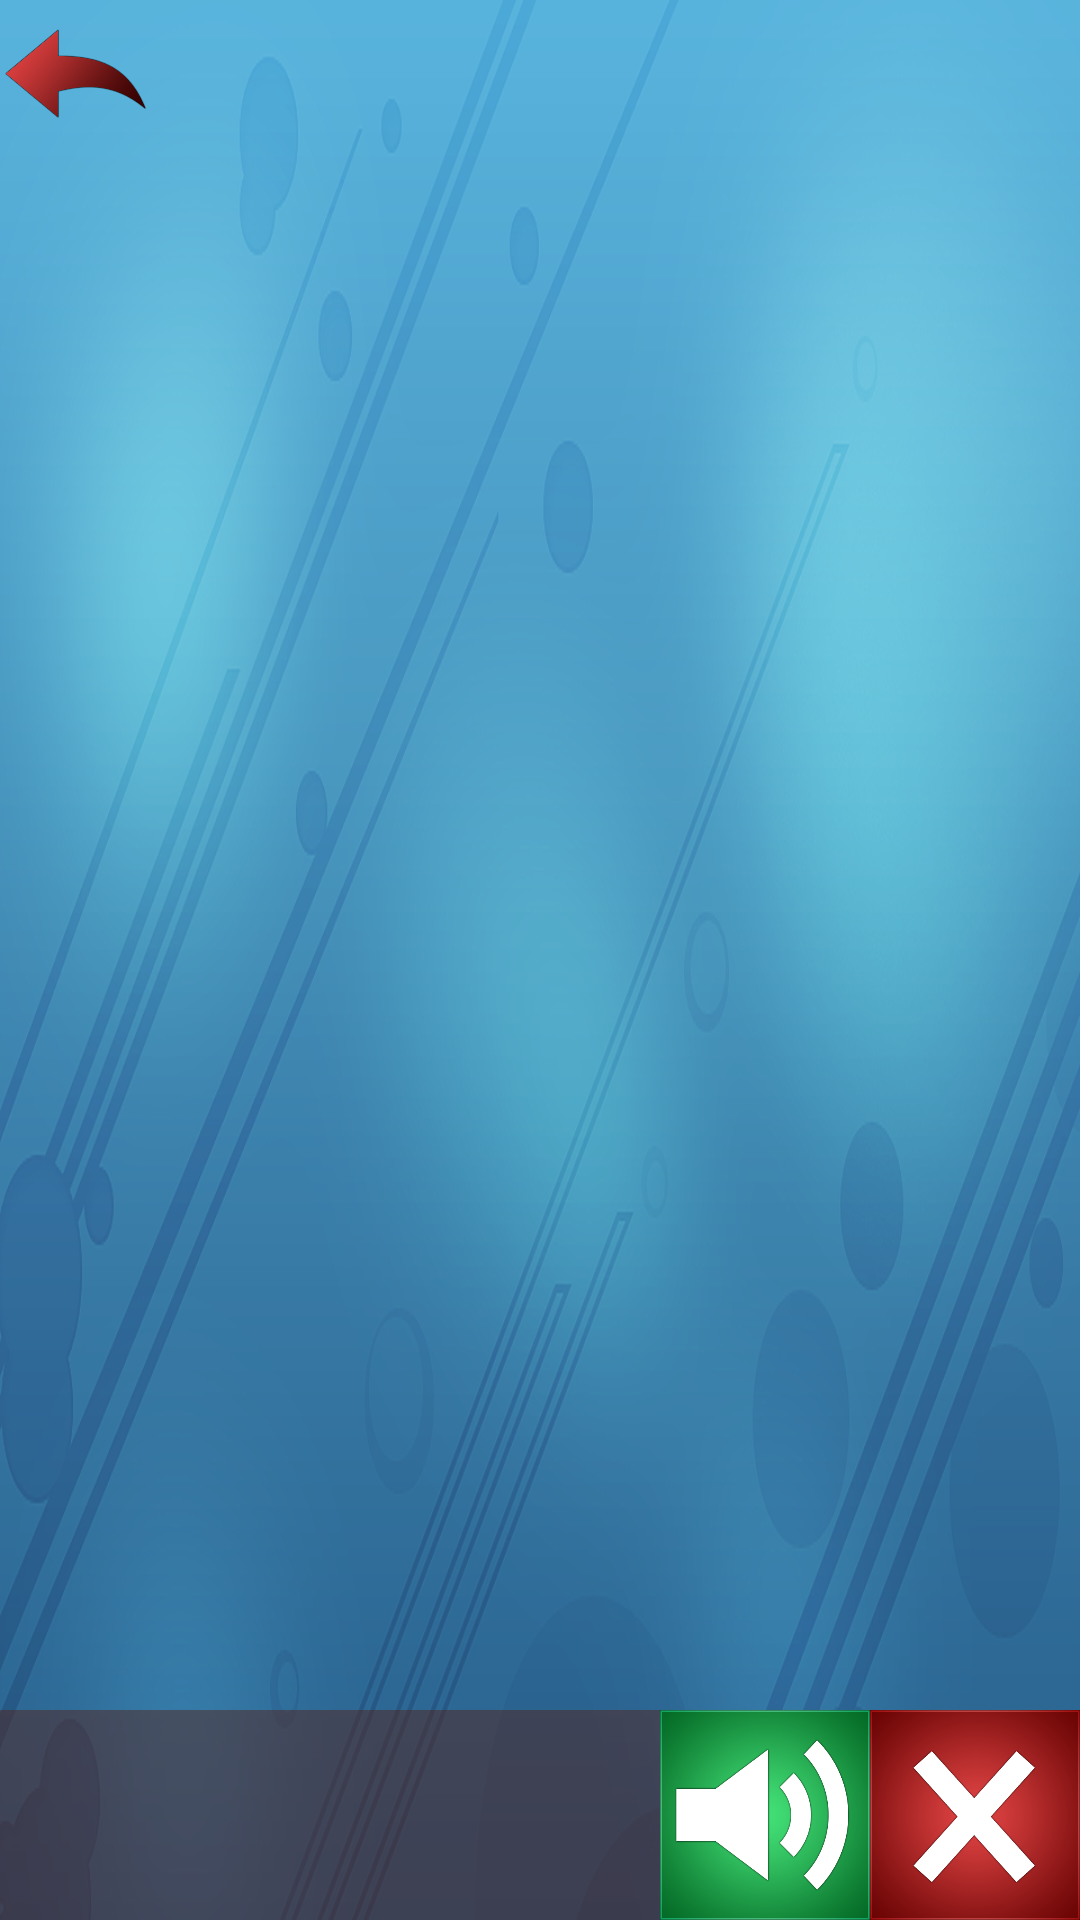

Icon click points for this 1080px×1920px phone screenshot, format (x=x, y=y):
category back: (x=75, y=74)
delete element: (x=975, y=1815)
speaker: (x=765, y=1815)
